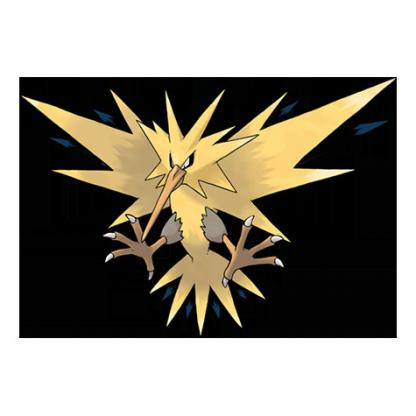Zapdos: (1, 71, 404, 354)
